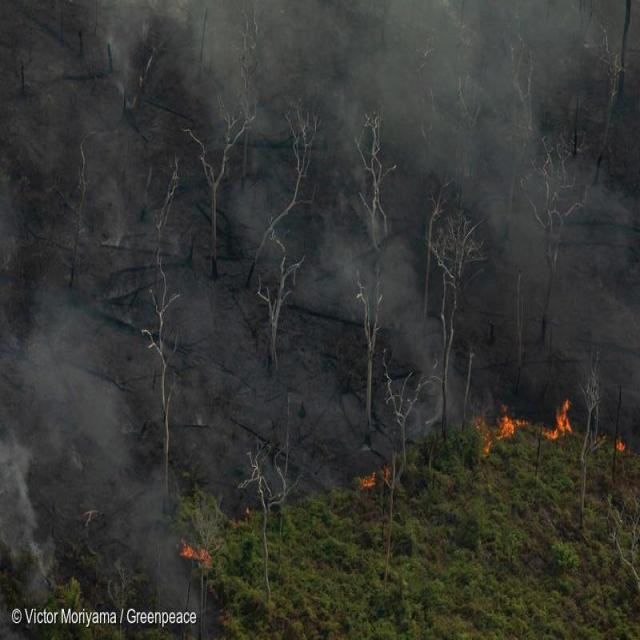Fire: (473, 392, 570, 461), (355, 450, 389, 492), (171, 544, 219, 559), (614, 435, 628, 449)
